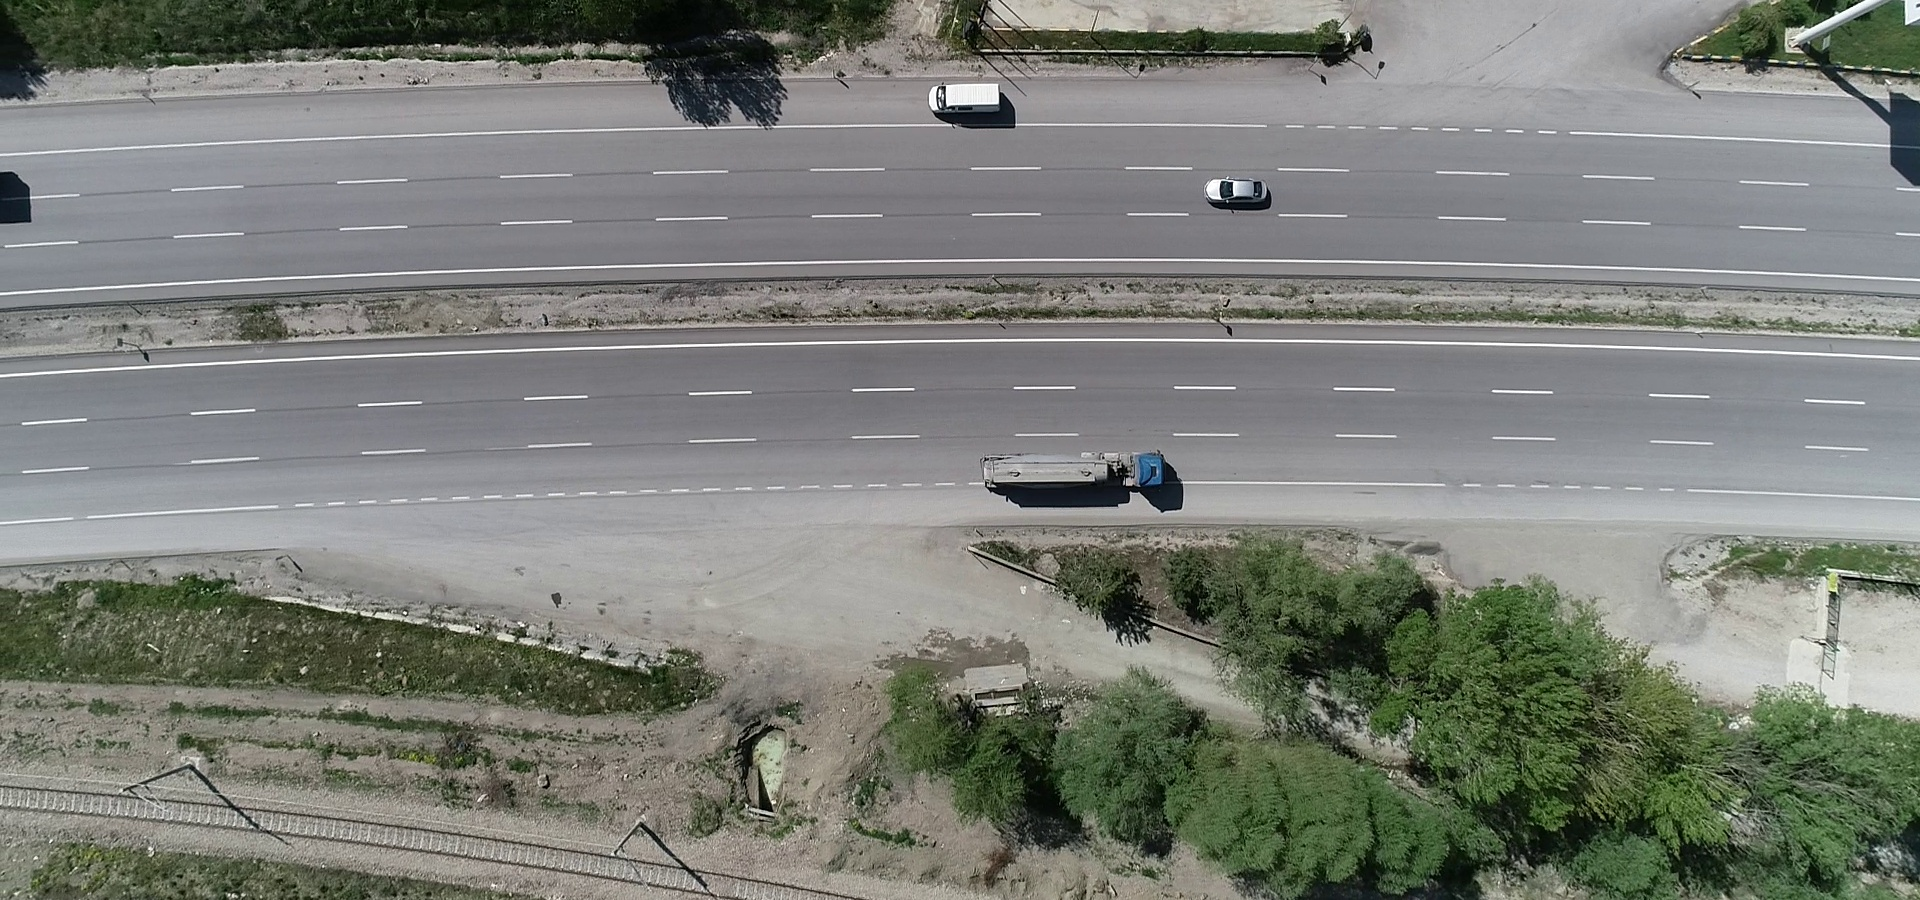araba: (917, 73, 1008, 122), (1201, 171, 1271, 216)
kamyon: (971, 446, 1180, 500)
